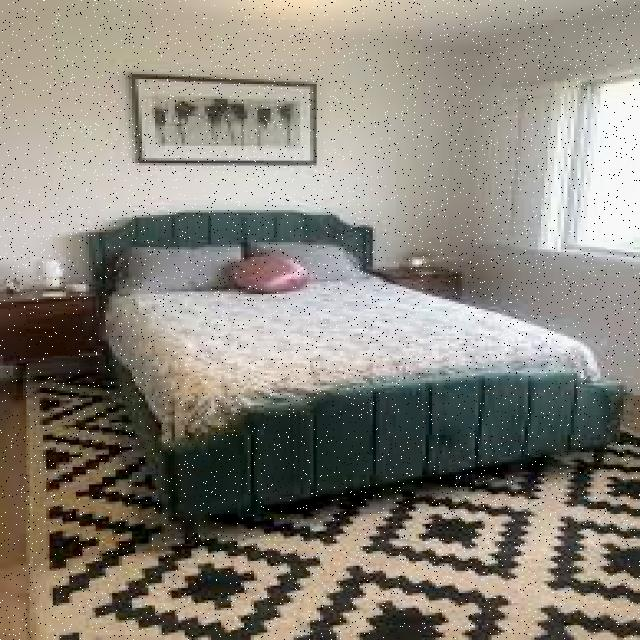bed: (74, 205, 638, 476)
